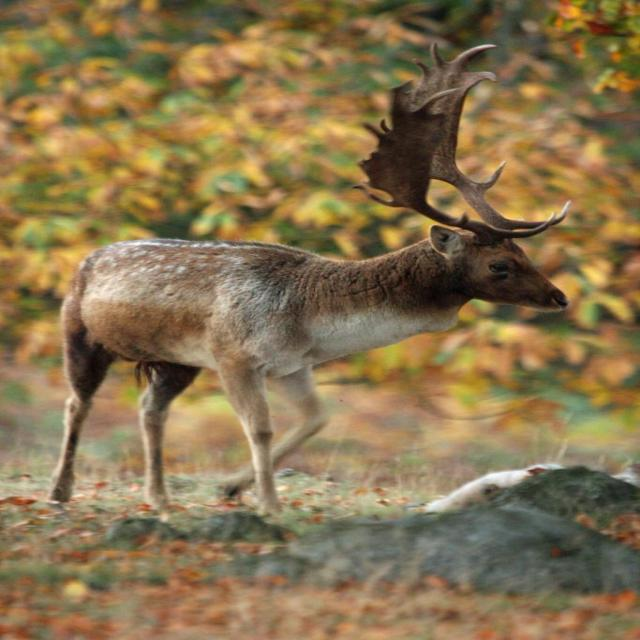Deer: (35, 40, 565, 512)
